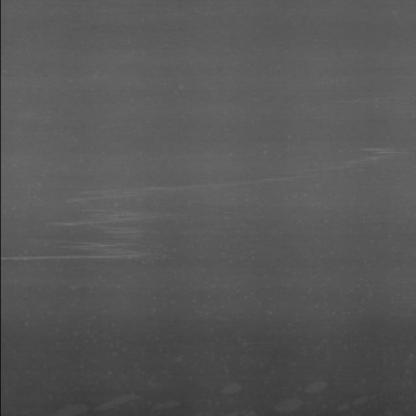silk_spot: (44, 182, 212, 272), (307, 144, 398, 180)
